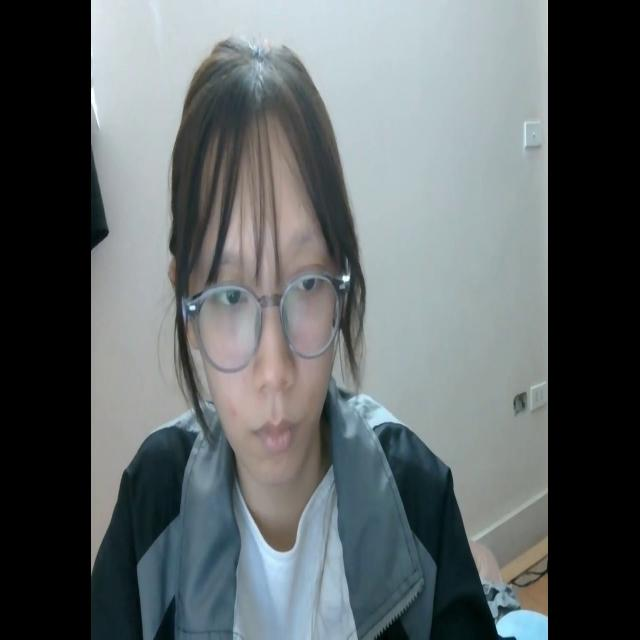student: (95, 34, 497, 640)
